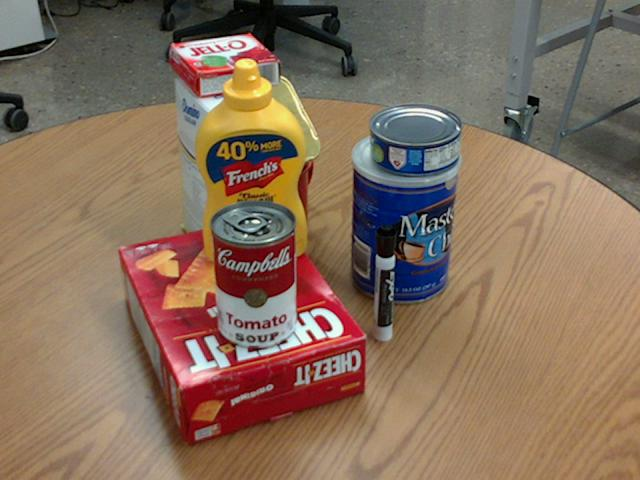cracker_box: (120, 215, 366, 443)
gelatin_box: (170, 34, 279, 96)
large_marker: (371, 224, 396, 342)
master_chef_can: (348, 128, 461, 304)
mug: (227, 137, 315, 238)
mustard_bottle: (193, 57, 305, 265)
potted_meat_can: (215, 75, 321, 195)
sugar_box: (175, 73, 247, 269)
tomato_soup_can: (209, 199, 296, 347)
tuna_fish_can: (369, 104, 462, 175)
